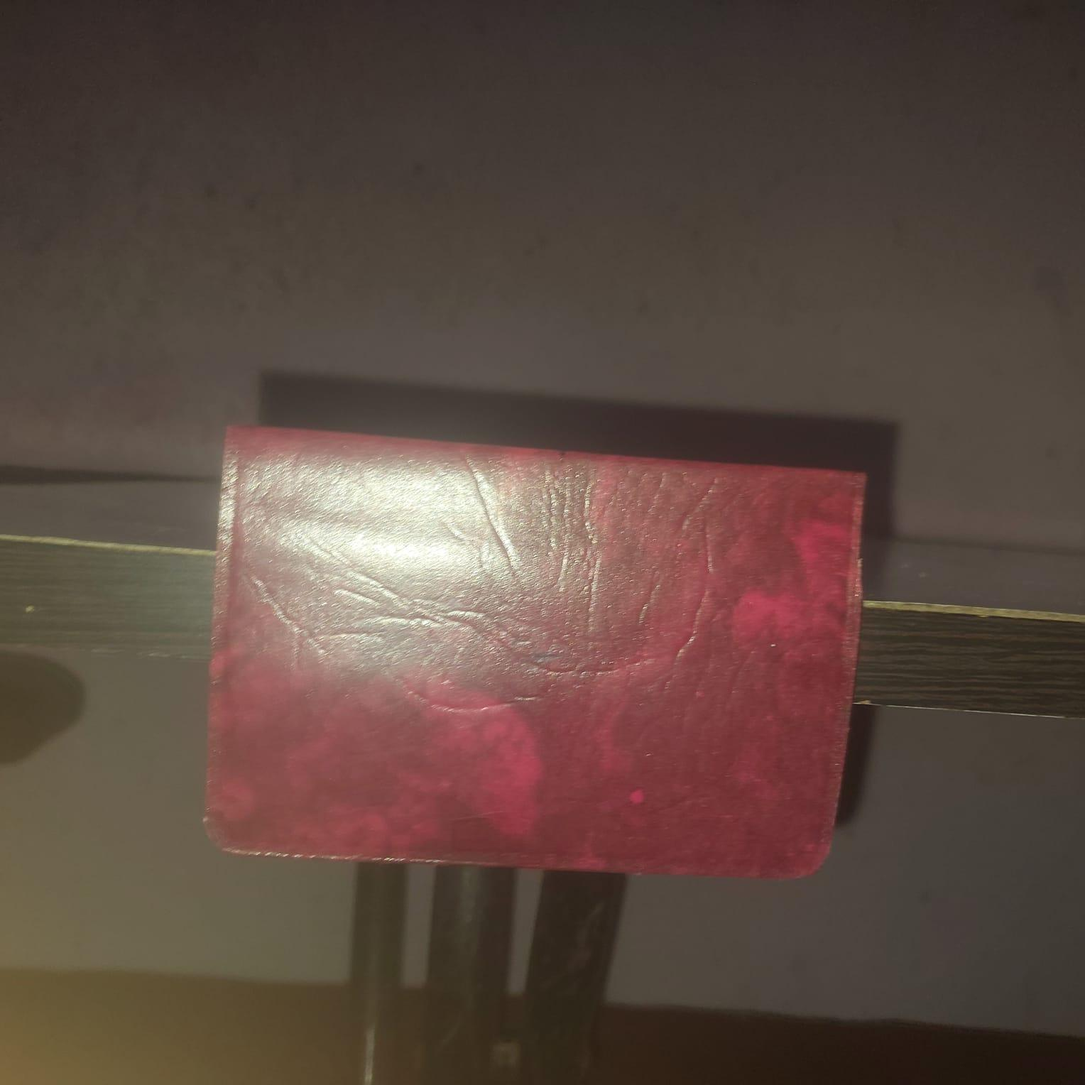wallet: (209, 433, 854, 883)
